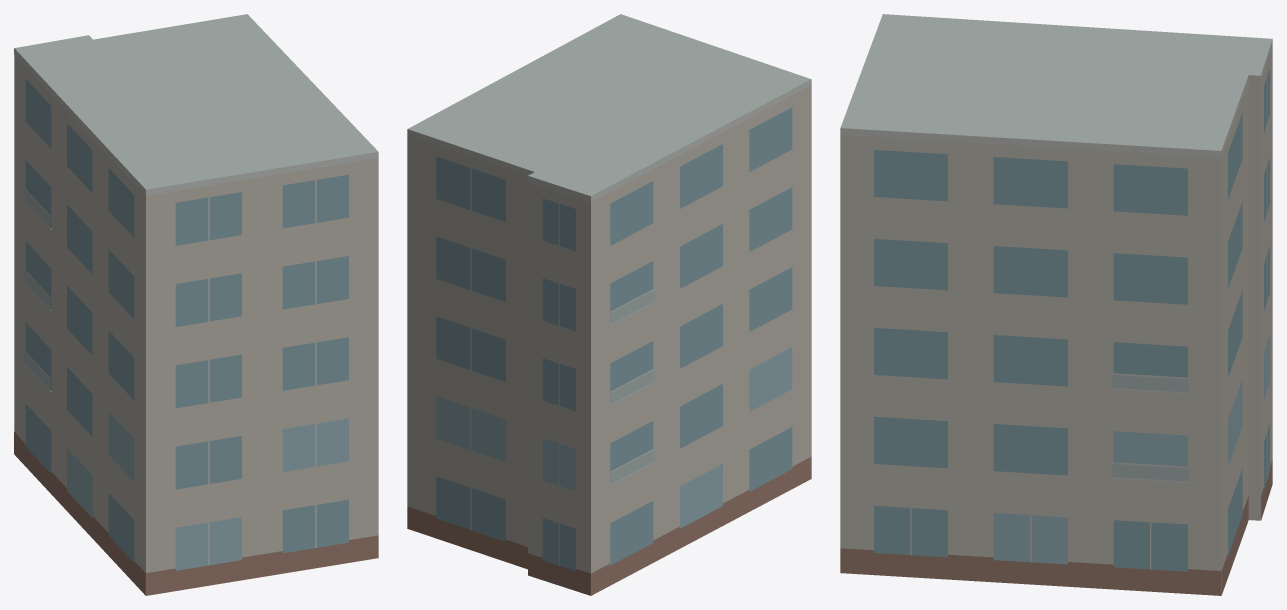
The model's file is survey-upis-32626955.glb.
The picture shows the model from 3 angles, left to right: view 1: azimuth 30°, elevation 25°; view 2: azimuth 150°, elevation 25°; view 3: azimuth 270°, elevation 25°; orthographic projection. The views are drawn at different scales.
Parts seen in each view (by area): view 1: survey-upis-32626955.tmp; view 2: survey-upis-32626955.tmp; view 3: survey-upis-32626955.tmp.
Part boxes in pixels (left/top/right/bottom): survey-upis-32626955.tmp: left=14, top=14, right=378, bottom=595; survey-upis-32626955.tmp: left=407, top=14, right=811, bottom=595; survey-upis-32626955.tmp: left=840, top=14, right=1272, bottom=595.
Bounding box in the file's own units: 10.44 × 15.8 × 13.92.
